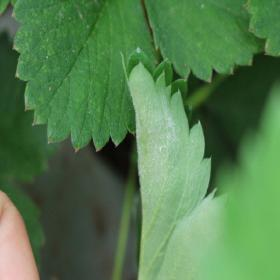Powdery Mildew Leaf: (120, 45, 213, 279)
